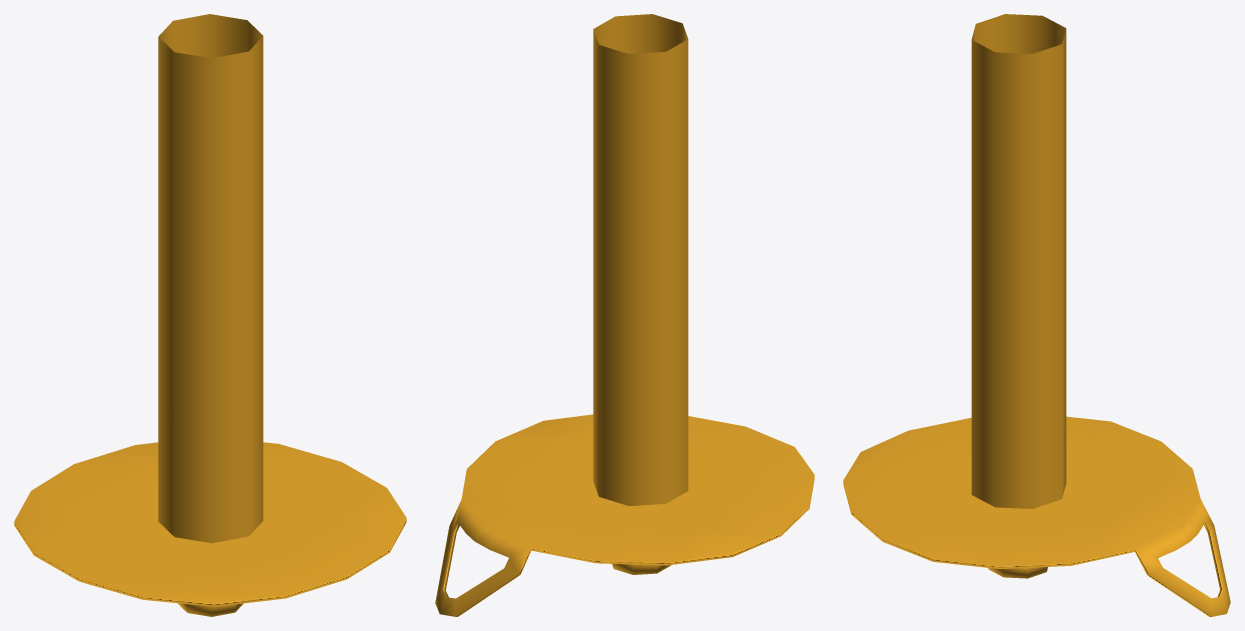
The model's file is Roofbolt.fbx.
3 views of the same model, side by side, from view 1: azimuth 30°, elevation 25°; view 2: azimuth 150°, elevation 25°; view 3: azimuth 270°, elevation 25° (orthographic). The views are drawn at different scales.
Visible parts, largest first — view 1: Roofbolts.001; view 2: Roofbolts.001; view 3: Roofbolts.001.
Part boxes in pixels (left/top/right/bottom): Roofbolts.001: left=14, top=14, right=406, bottom=616; Roofbolts.001: left=435, top=14, right=814, bottom=616; Roofbolts.001: left=843, top=14, right=1230, bottom=616.
Size of the model in its own units: 9.54 by 15.71 by 10.34.
